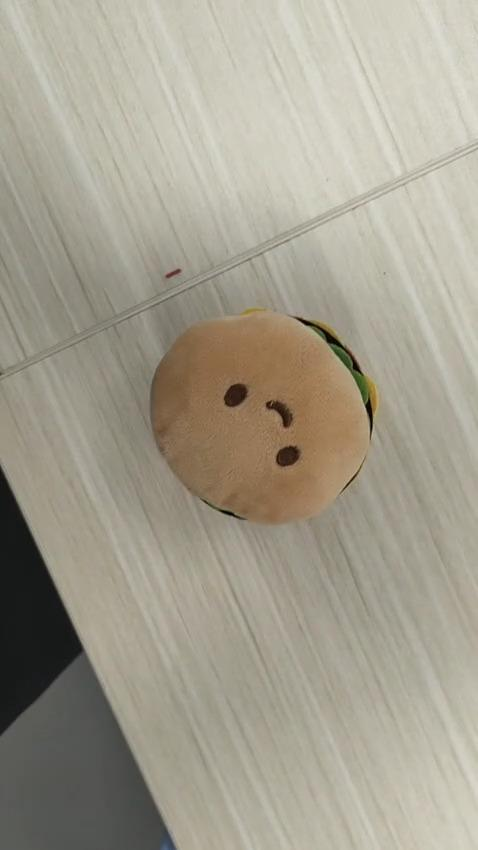hamburger: (143, 308, 378, 527)
